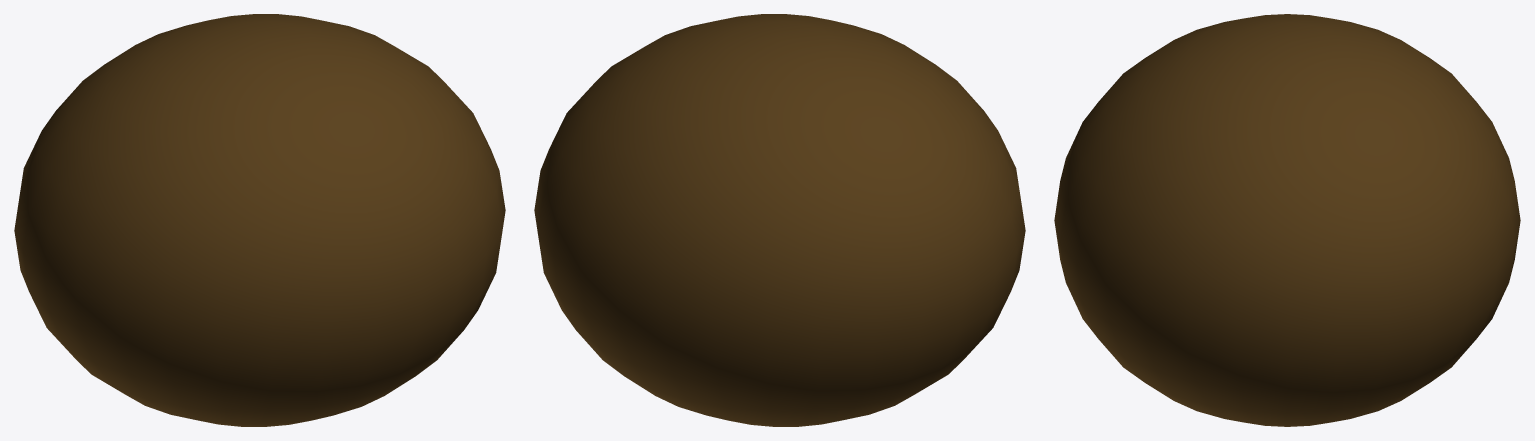
File: newsha-281.glb
3 renders of one model, left to right at view 1: azimuth 30°, elevation 25°; view 2: azimuth 150°, elevation 25°; view 3: azimuth 270°, elevation 25°, orthographic.
Parts seen in each view (by area): view 1: newsha-281; view 2: newsha-281; view 3: newsha-281.
Boxes of the visible parts, x1,y1,x2,y2 form: newsha-281: (14,14,505,426); newsha-281: (534,14,1025,426); newsha-281: (1054,14,1520,426).
Size of the model in its own units: 1.5 by 1.2 by 1.42.
